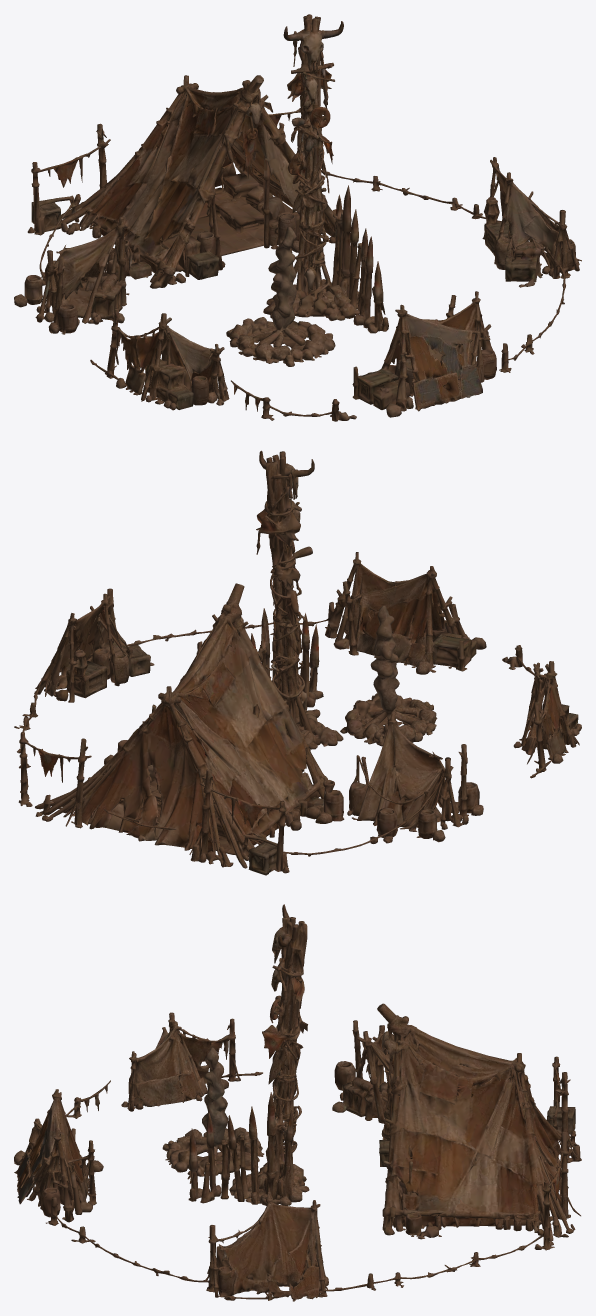
File: raider-camp.glb
The picture shows the model from 3 angles, top to bottom: view 1: azimuth 30°, elevation 25°; view 2: azimuth 150°, elevation 25°; view 3: azimuth 270°, elevation 25°; orthographic projection. The views are drawn at different scales.
Visible parts, largest first — view 1: Mesh_0; view 2: Mesh_0; view 3: Mesh_0.
Boxes of the visible parts, box(x1,y1,x2,y2) form: Mesh_0: box(14, 14, 581, 421); Mesh_0: box(14, 450, 581, 875); Mesh_0: box(14, 904, 581, 1301).
Bounding box in the file's own units: 14.11 × 7.99 × 15.09.
1 material, 1 textured.
